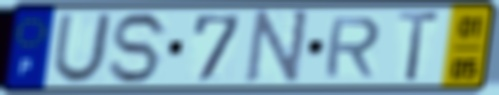7: (189, 13, 244, 84)
N: (241, 7, 313, 87)
R: (320, 14, 384, 79)
S: (107, 10, 173, 87)
T: (395, 9, 444, 84)
U: (49, 11, 116, 86)
